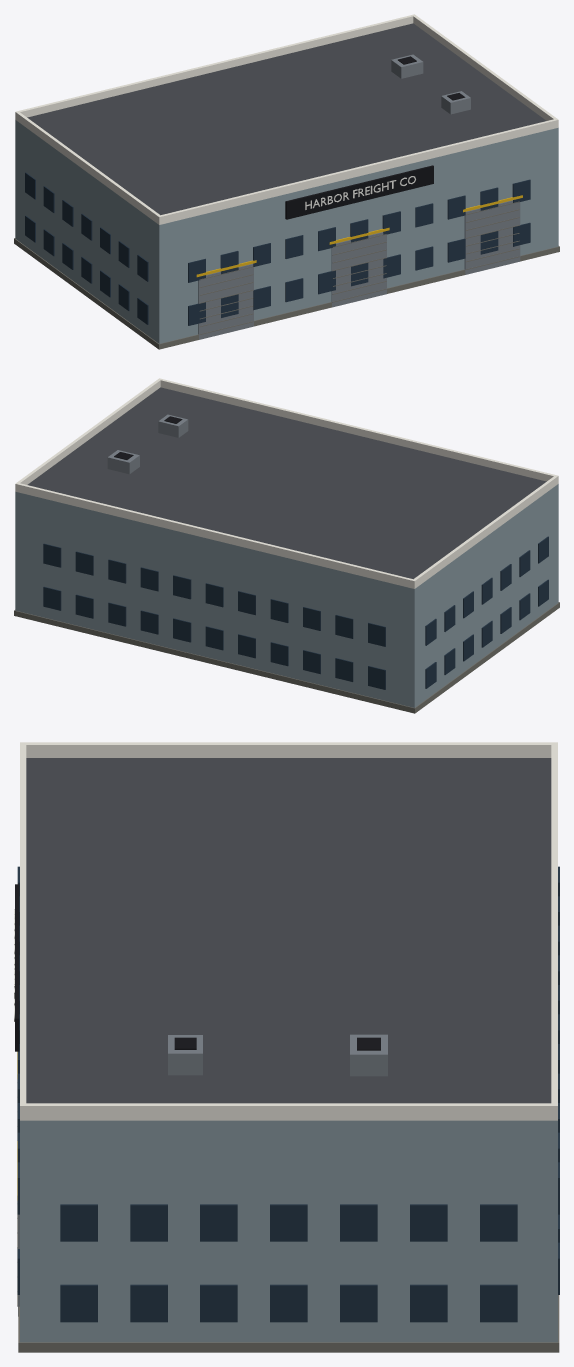
The model's file is warehouse_a.glb.
3 renders of one model, top to bottom at view 1: azimuth 30°, elevation 25°; view 2: azimuth 150°, elevation 25°; view 3: azimuth 270°, elevation 25°, orthographic. The views are drawn at different scales.
Parts seen in each view (by area): view 1: warehouse_a_Body, warehouse_a_SignBoard, warehouse_a_Sign; view 2: warehouse_a_Body; view 3: warehouse_a_Body, warehouse_a_SignBoard.
Boxes of the visible parts, left/top/right/bottom form: warehouse_a_Body: left=14, top=14, right=559, bottom=349; warehouse_a_SignBoard: left=285, top=165, right=433, bottom=219; warehouse_a_Sign: left=305, top=176, right=415, bottom=209; warehouse_a_Body: left=14, top=378, right=559, bottom=713; warehouse_a_Body: left=17, top=742, right=559, bottom=1352; warehouse_a_SignBoard: left=15, top=884, right=19, bottom=1051.
Bounding box in the file's own units: 32.16 × 10.49 × 20.3.
